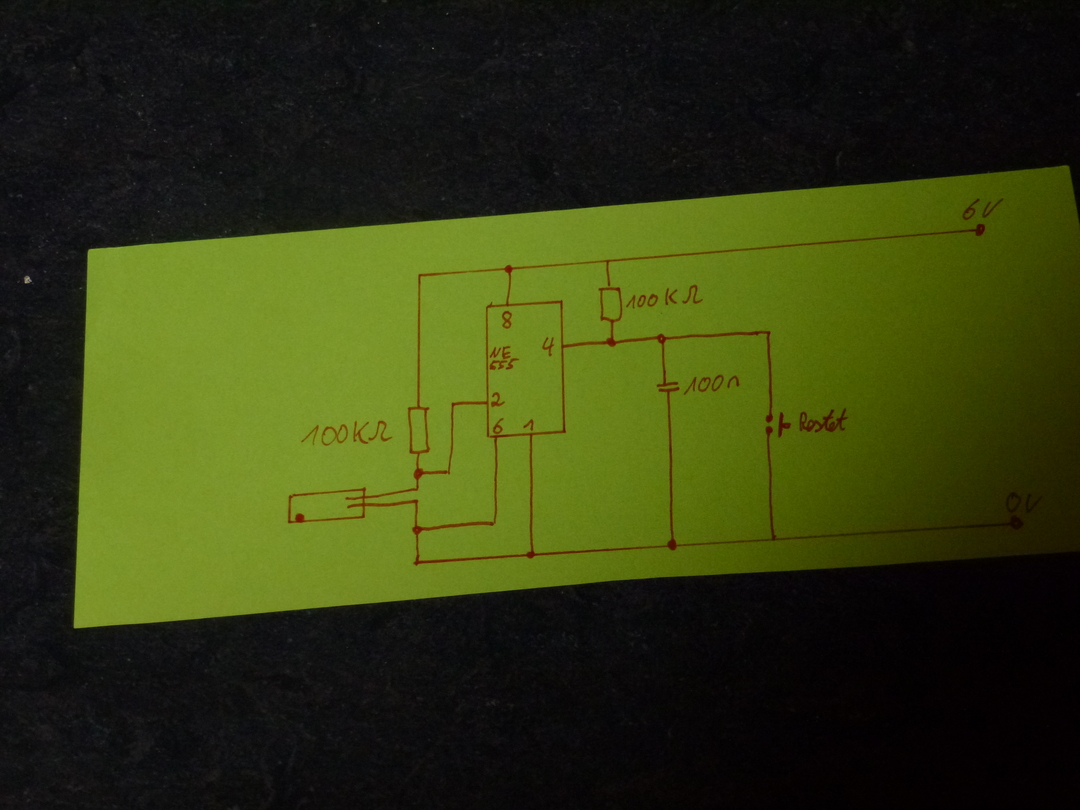capacitor.unpolarized: (655, 378, 683, 395)
integrated_cricuit.ne555: (481, 297, 568, 441)
junction: (665, 537, 680, 553), (412, 466, 426, 480), (604, 336, 619, 349), (411, 523, 424, 537), (655, 331, 668, 345), (503, 263, 516, 276), (764, 327, 776, 339), (412, 554, 422, 568), (525, 549, 537, 560), (769, 533, 780, 545), (443, 467, 454, 478), (489, 518, 498, 530), (448, 400, 458, 410), (603, 258, 614, 267), (412, 484, 422, 493), (413, 497, 422, 506), (416, 271, 424, 280)
resistor: (405, 403, 433, 456), (598, 283, 625, 324)
switch: (286, 485, 371, 526), (764, 410, 793, 439)
terminal: (1007, 514, 1026, 532), (972, 221, 987, 238)
text: (300, 418, 394, 446), (625, 284, 705, 310), (797, 407, 849, 435), (683, 374, 741, 396), (960, 197, 1006, 221), (488, 344, 520, 373), (1005, 490, 1042, 513), (540, 335, 556, 358), (489, 390, 506, 410), (500, 309, 515, 330), (492, 416, 506, 434), (522, 417, 536, 432)
